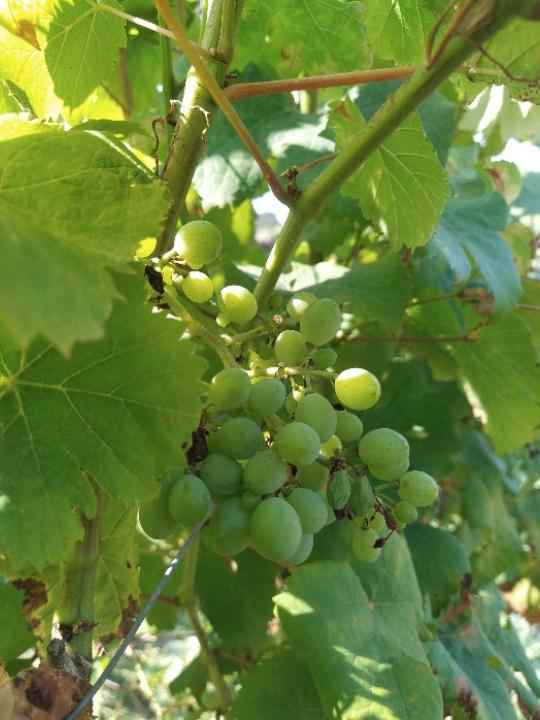grape: (136, 215, 442, 570)
